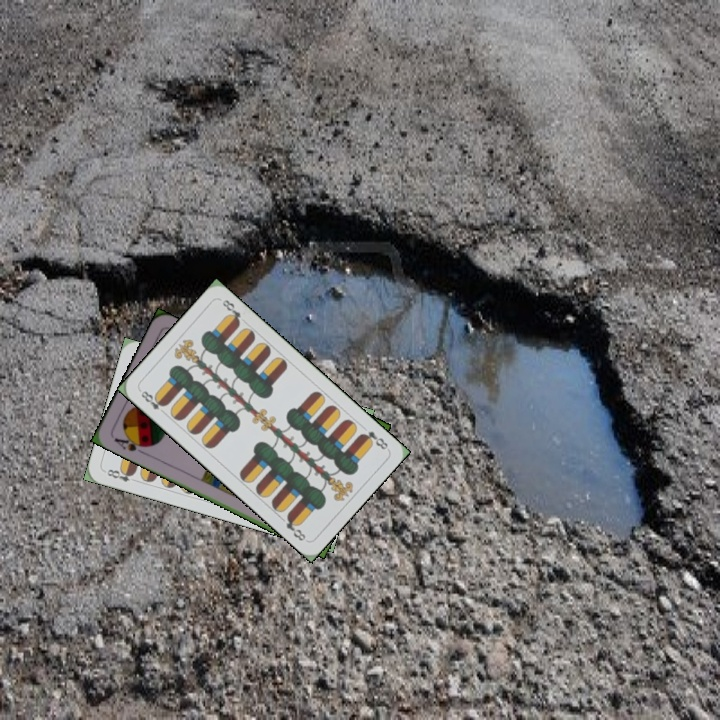E8: (136, 386, 169, 417), (356, 427, 391, 452), (101, 465, 140, 485)
SA: (110, 431, 150, 457)
